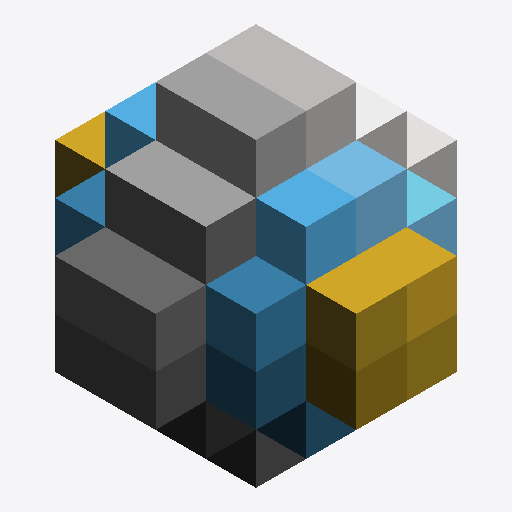
Isometric view (azimuth 45°, elevation 35.3°) of a Minecraft model made of 6 cuboids, textured from the same repository.
Parts seen in each view (by area): core (×3), element 1, element 2, element 6.
Part boxes in pixels (left/top/right/bottom): core (×3): left=55, top=82, right=456, bottom=458; element 1: left=55, top=112, right=456, bottom=429; element 2: left=55, top=112, right=456, bottom=429; element 6: left=156, top=24, right=355, bottom=487.
Bounding box in the file's own units: 6 × 6 × 6.